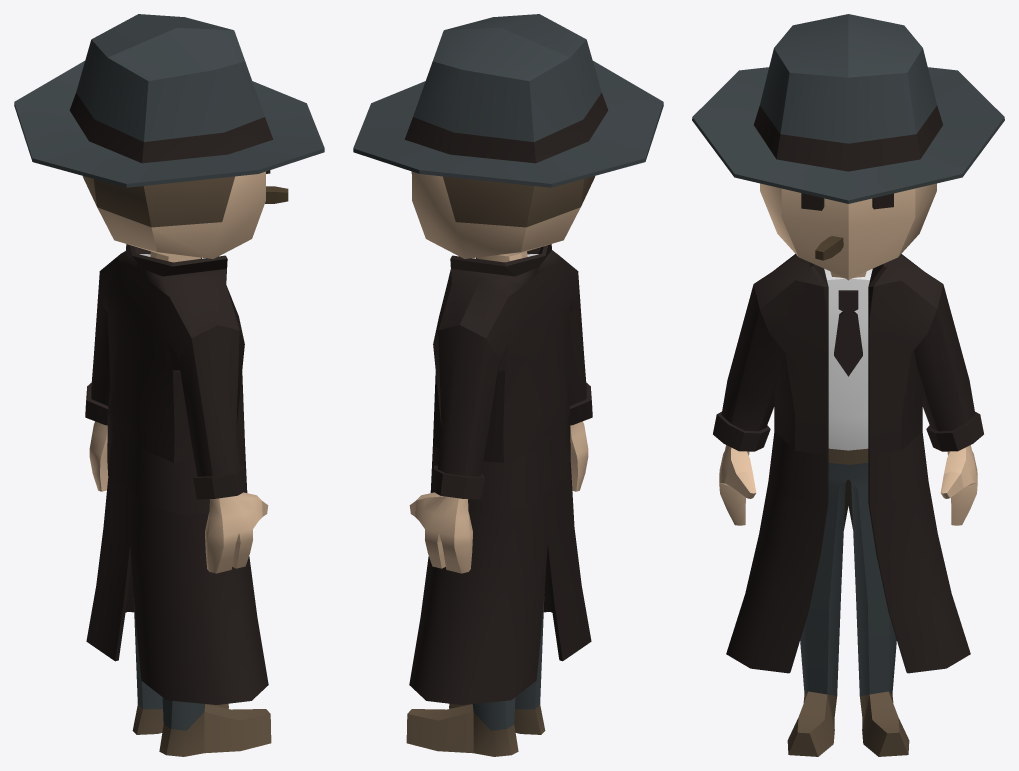
File: Detective.fbx
3 renders of one model, left to right at view 1: azimuth 30°, elevation 25°; view 2: azimuth 150°, elevation 25°; view 3: azimuth 270°, elevation 25°, orthographic. The views are drawn at different scales.
Visible parts, largest first — view 1: geo_Detective; view 2: geo_Detective; view 3: geo_Detective.
Boxes of the visible parts, x1,y1,x2,y2 form: geo_Detective: (14,14,324,756); geo_Detective: (353,14,663,756); geo_Detective: (692,14,1004,756).
Size of the model in its own units: 0.7483 by 1.85 by 0.7581.
